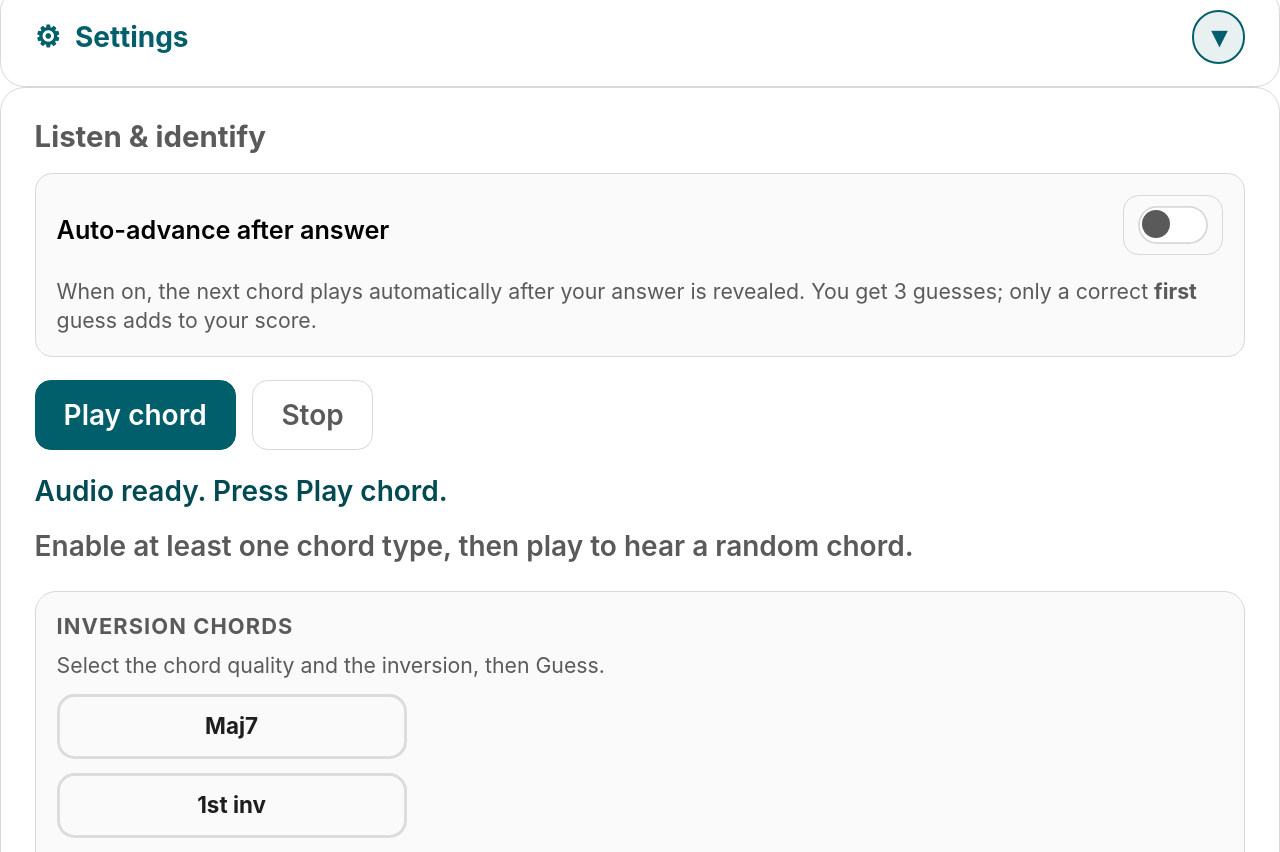
ChordTopic — two-part inversion guessing › scores a correct quality + inversion pick
Click the button "Play chord".
click(135, 415)  # box [35,380,236,450]
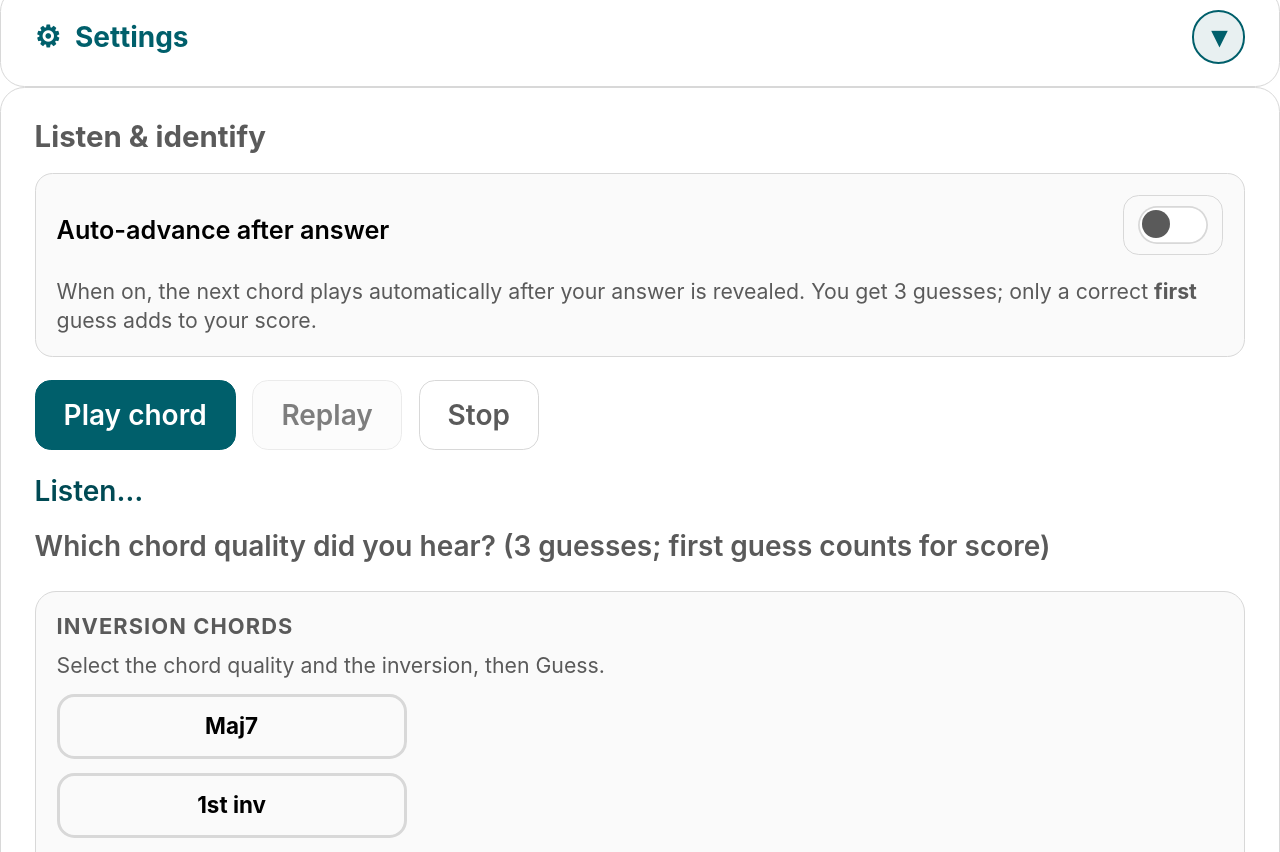
Click the button "Maj7".
click(232, 726)  # box [57,694,407,759]
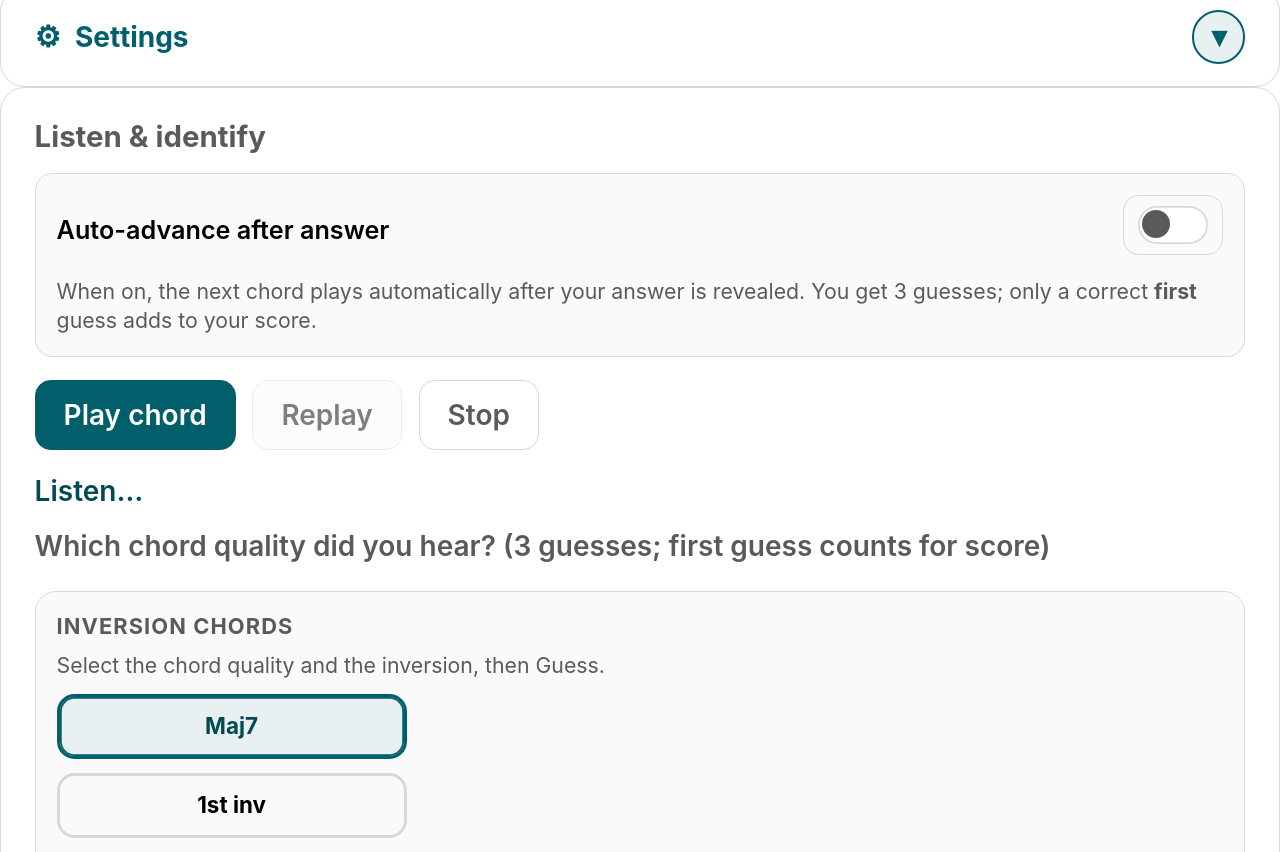
Click the button "1st inv".
click(232, 805)  # box [57,773,407,838]
(page scrolled)
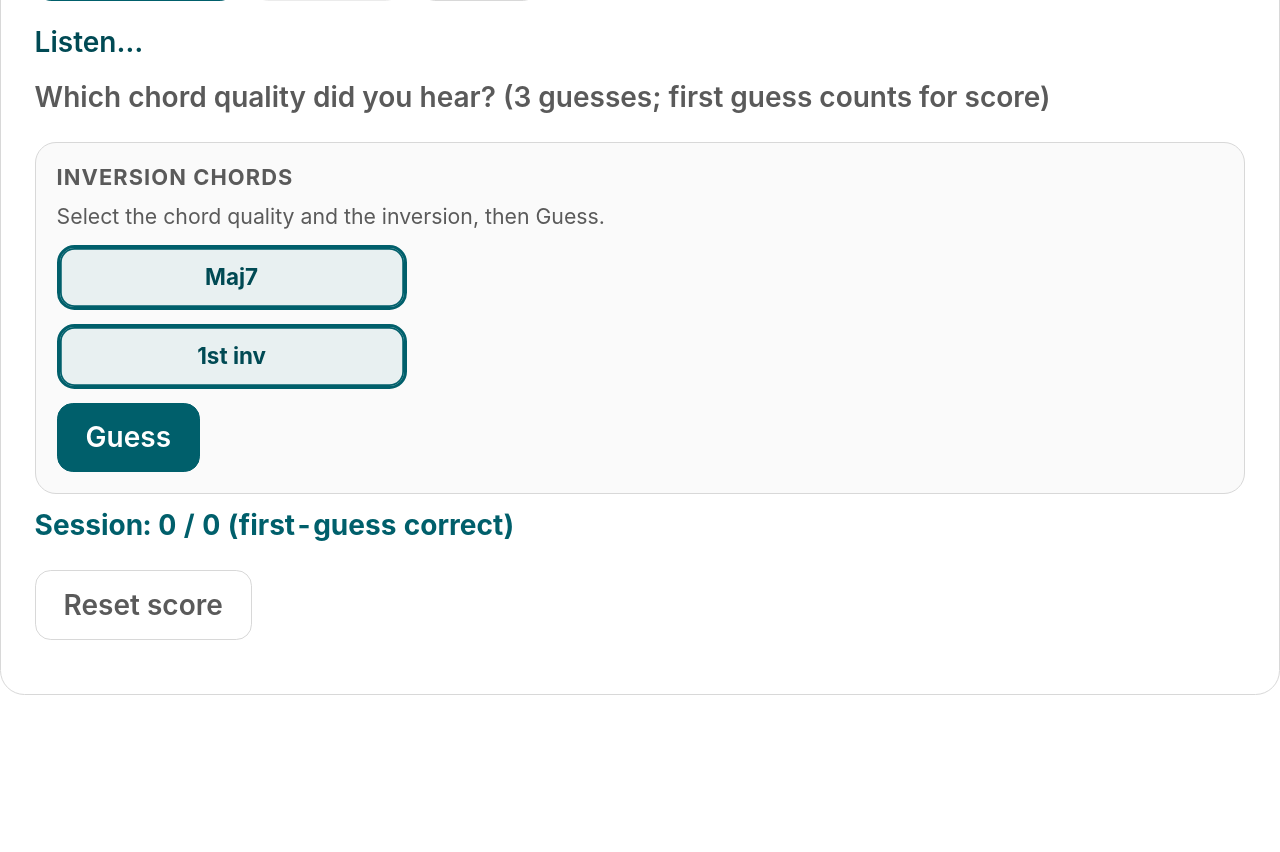
Click the button "Guess".
click(128, 437)  # box [57,403,200,472]
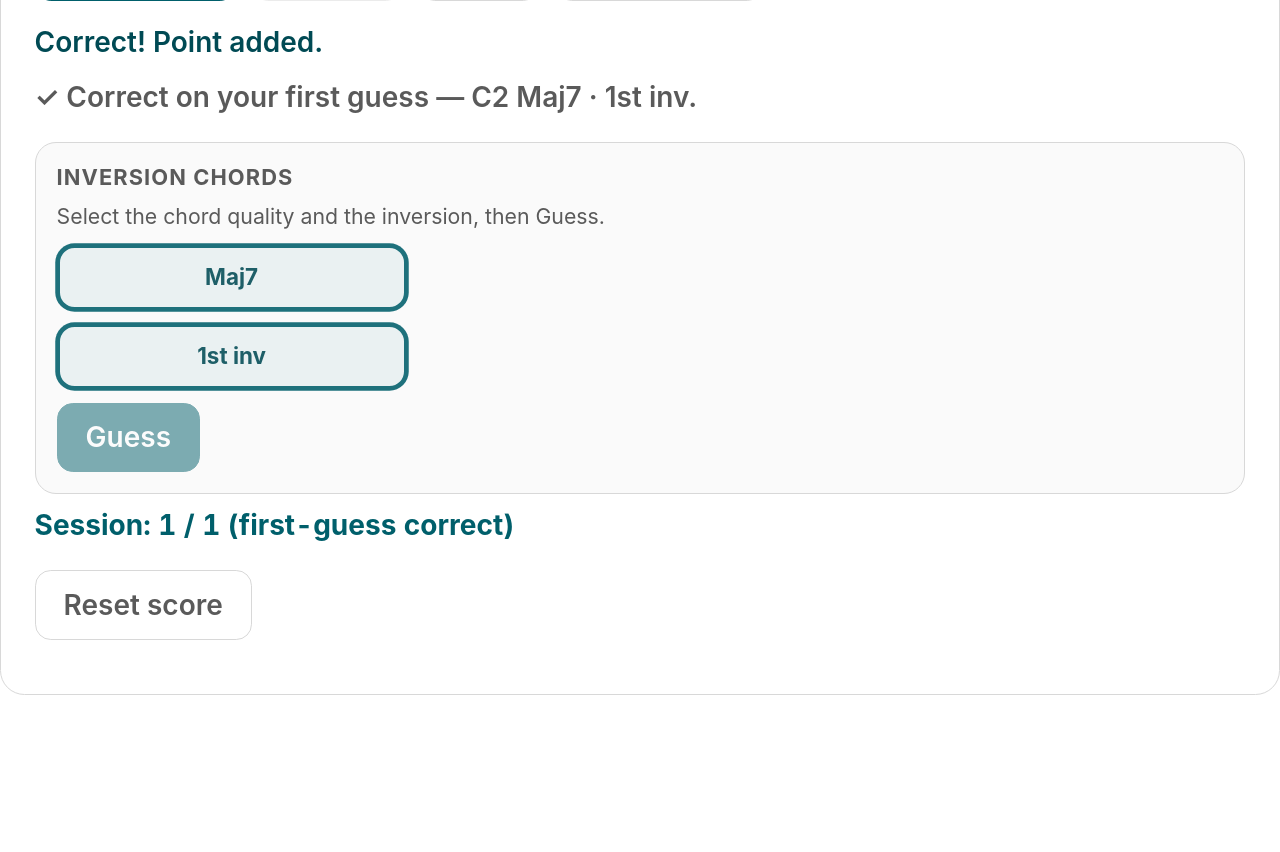
Check: the text "Session: 1 / 1 (first-guess correct)" is shown, box [35,508,514,542]
